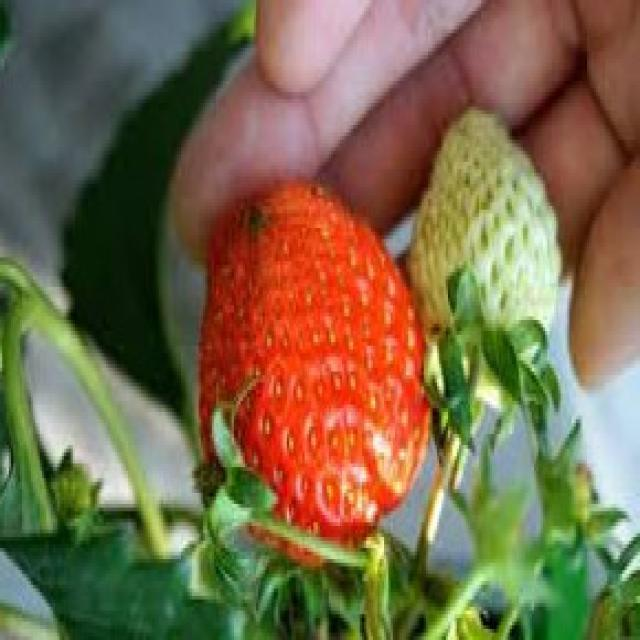straw-ripe: (200, 180, 430, 543)
straw-unripe: (408, 112, 560, 399)
